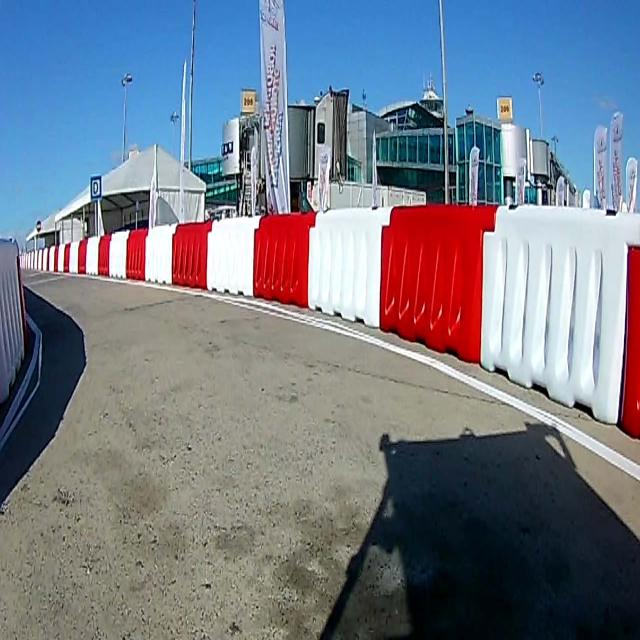durak: (90, 175, 100, 197)
